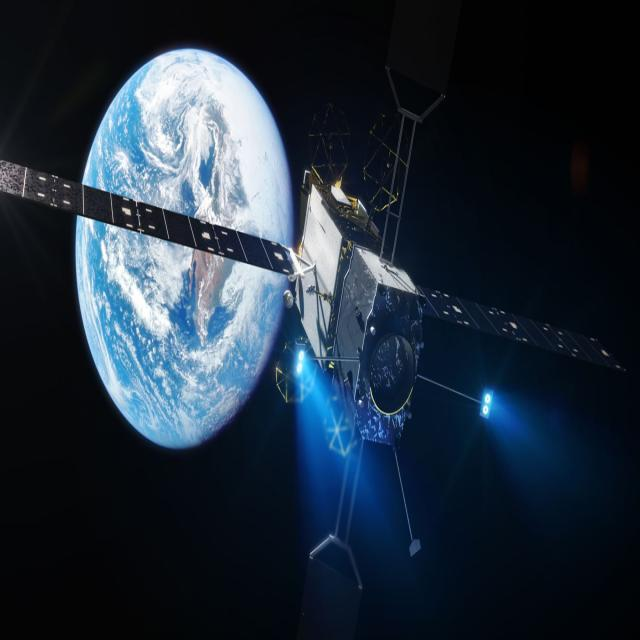satellite: (1, 34, 640, 593)
